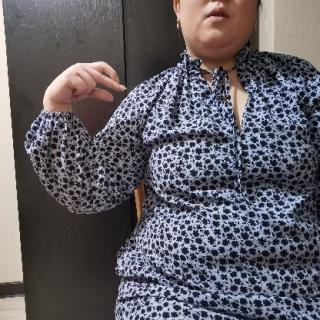DHELL: (43, 53, 131, 116)
